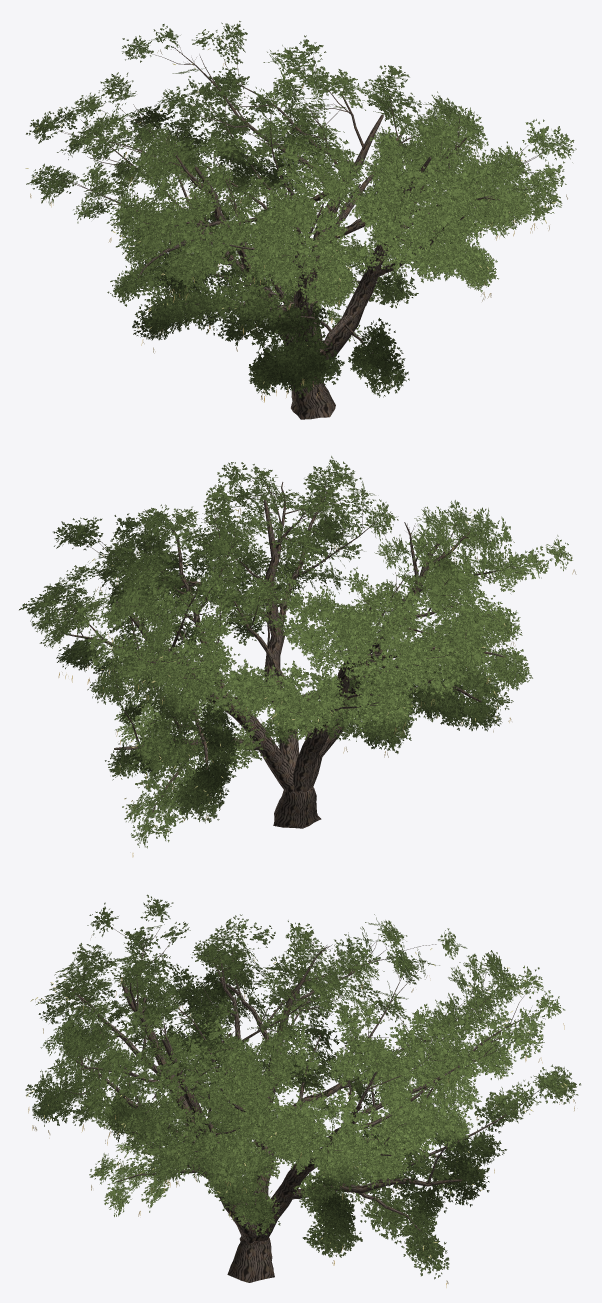
Rendered from old-a.lod0.glb.
The picture shows the model from 3 angles, top to bottom: view 1: azimuth 30°, elevation 25°; view 2: azimuth 150°, elevation 25°; view 3: azimuth 270°, elevation 25°; orthographic projection.
Parts seen in each view (by area): view 1: foliage, bark; view 2: foliage, bark; view 3: foliage, bark.
Boxes of the visible parts, box(x1,y1,x2,y2) form: foliage: box(26, 21, 576, 398); bark: box(51, 43, 547, 419); foliage: box(19, 456, 572, 848); bark: box(58, 479, 541, 828); foliage: box(25, 894, 580, 1279); bark: box(65, 925, 545, 1282).
Bounding box in the file's own units: 16.32 × 9.5 × 16.49.
Materials: 5 (2 with a texture image).
